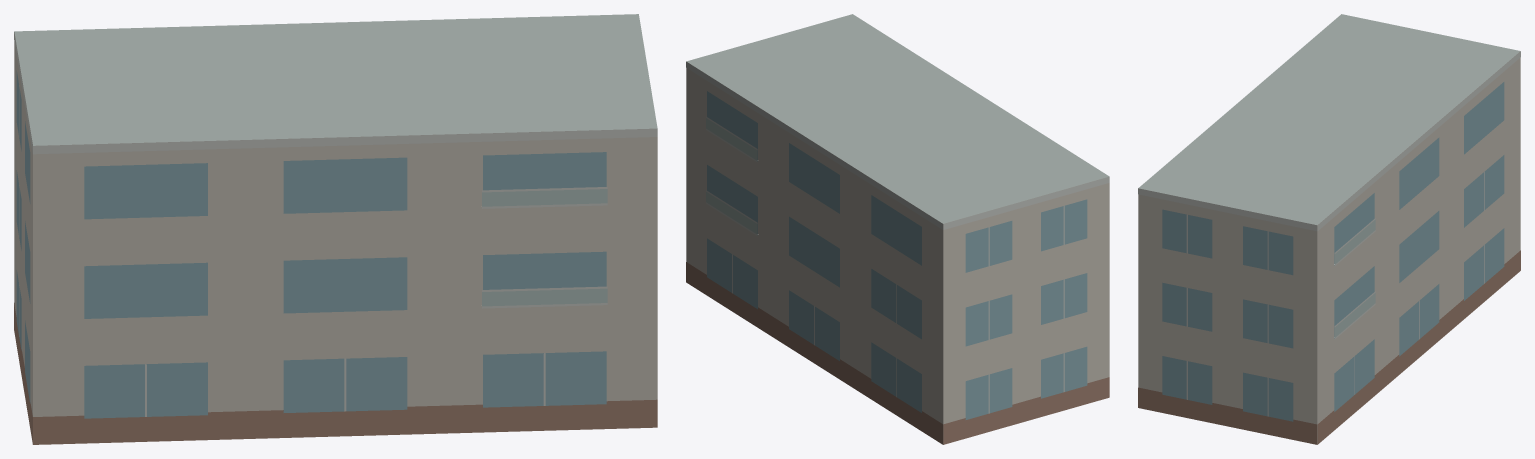
The model's file is survey-upis-32888304.glb.
3 views of the same model, side by side, from view 1: azimuth 30°, elevation 25°; view 2: azimuth 150°, elevation 25°; view 3: azimuth 270°, elevation 25° (orthographic). The views are drawn at different scales.
Visible parts, largest first — view 1: survey-upis-32888304.tmp; view 2: survey-upis-32888304.tmp; view 3: survey-upis-32888304.tmp.
Boxes of the visible parts, left/top/right/bottom form: survey-upis-32888304.tmp: left=14, top=14, right=657, bottom=444; survey-upis-32888304.tmp: left=686, top=14, right=1109, bottom=444; survey-upis-32888304.tmp: left=1138, top=14, right=1520, bottom=444.
Bounding box in the file's own units: 17.96 × 8.7 × 13.75.
